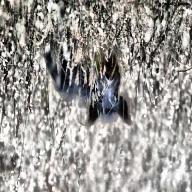boar: (33, 34, 134, 127)
